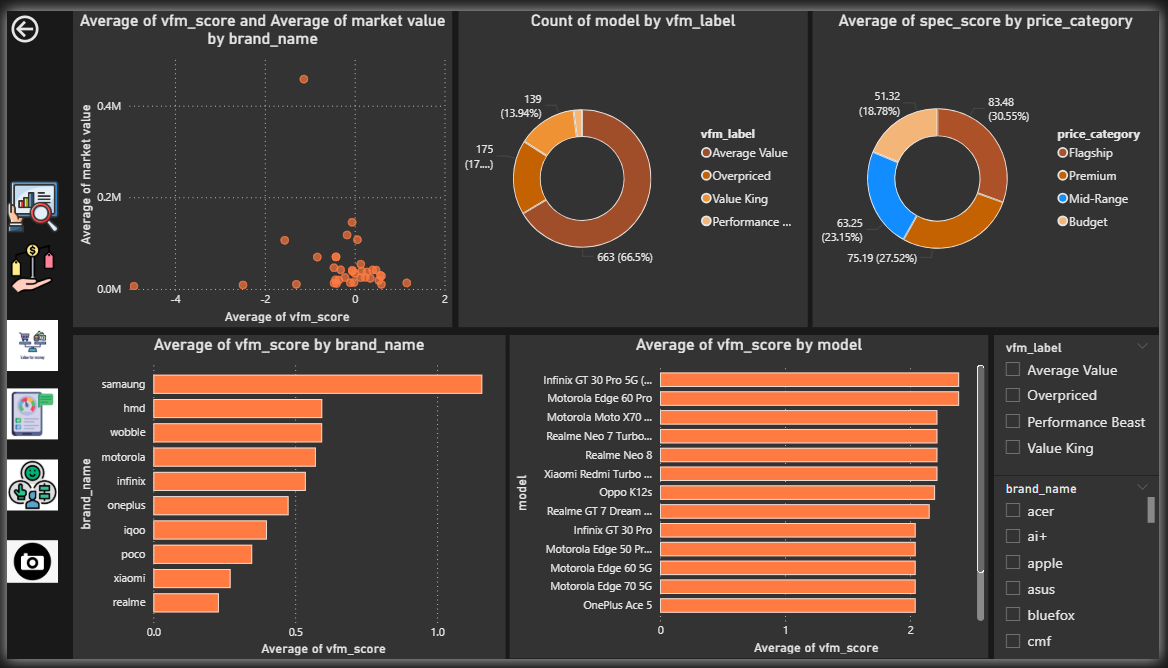

This screenshot's page, from the dashboard's own definition file:
{"tool":"powerbi","page":{"name":"Value for Money Analysis","canvas":[1280,720],"ordinal":2},"visuals":[{"type":"scatterChart","fields":{"X":["Avg(smartprix_smartphones_april_202.vfm_score)"],"Y":["Avg(smartprix_smartphones_april_202.market value)"],"Category":["Brand.brand_name"]},"box":[73.2,0,421.5,351.5],"z":0},{"type":"barChart","fields":{"Category":["Brand.brand_name"],"Y":["Avg(smartprix_smartphones_april_202.vfm_score)"]},"box":[73.2,359.5,480.4,361.1],"z":1000},{"type":"barChart","fields":{"Y":["Avg(smartprix_smartphones_april_202.vfm_score)"],"Category":["Model.model"]},"box":[557.6,359.3,532.2,359.3],"z":2000},{"type":"donutChart","fields":{"Category":["Price Category.price_category"],"Y":["Avg(smartprix_smartphones_april_202.spec_score)"]},"box":[895.5,0,384.9,351.5],"z":3000},{"type":"slicer","fields":{"Values":["Brand.brand_name"]},"box":[1096.4,516.1,183.9,203.6],"z":4000},{"type":"slicer","fields":{"Values":["vfm label.vfm_label"]},"box":[1096,360,184,156],"z":5000},{"type":"donutChart","fields":{"Category":["vfm label.vfm_label"],"Y":["Count(Model.model)"]},"box":[501,0,388.1,351.5],"z":6000},{"type":"actionButton","box":[0,0,100,40],"z":7000},{"type":"image","box":[0,182.9,57.3,68.4],"z":15000},{"type":"image","box":[0,310,56.7,123.3],"z":16000},{"type":"image","box":[0,241.7,56.7,88.3],"z":17000},{"type":"image","box":[0,410,56.7,75],"z":18000},{"type":"image","box":[0,485,56.7,83.3],"z":19000},{"type":"image","box":[0,556.7,56.7,110],"z":20000},{"type":"pageNavigator","box":[0,173.3,56.7,473.3],"z":20500}]}

Visuals, with their boxes on the page's 1280x720 design canvas (x1, y1, x2, y2). These are canvas units, not pixel positions in the 1168x668 screenshot, which may show the page scaled, cropped or inside an application window:
scatterChart - Avg(smartprix_smartphones_april_202.vfm_score) x Avg(smartprix_smartphones_april_202.market value): x1=73, y1=0, x2=495, y2=352
barChart - Brand.brand_name x Avg(smartprix_smartphones_april_202.vfm_score): x1=73, y1=360, x2=554, y2=721
barChart - Avg(smartprix_smartphones_april_202.vfm_score) x Model.model: x1=558, y1=359, x2=1090, y2=719
donutChart - Price Category.price_category x Avg(smartprix_smartphones_april_202.spec_score): x1=896, y1=0, x2=1280, y2=352
slicer - Brand.brand_name: x1=1096, y1=516, x2=1280, y2=720
slicer - vfm label.vfm_label: x1=1096, y1=360, x2=1280, y2=516
donutChart - vfm label.vfm_label x Count(Model.model): x1=501, y1=0, x2=889, y2=352
actionButton: x1=0, y1=0, x2=100, y2=40
image: x1=0, y1=183, x2=57, y2=251
image: x1=0, y1=310, x2=57, y2=433
image: x1=0, y1=242, x2=57, y2=330
image: x1=0, y1=410, x2=57, y2=485
image: x1=0, y1=485, x2=57, y2=568
image: x1=0, y1=557, x2=57, y2=667
pageNavigator: x1=0, y1=173, x2=57, y2=647
